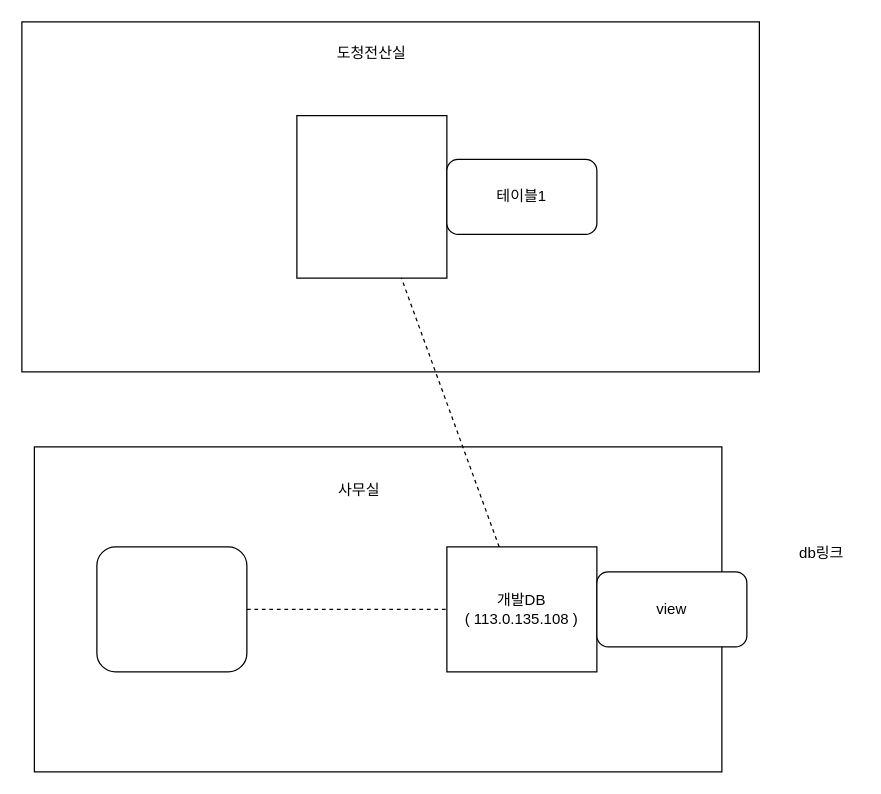
Some shapes in this 881 by 794 pixel diagram are drawn without their labels. The shapes that lost their labels are listed below. From the top down, each one's centre as x and y in pixels, then its label:
At pixel 371 196: "운영 DB ( 113.0.1.188 )".
At pixel 171 609: "혜연 ( 113.0.135.102 )".
